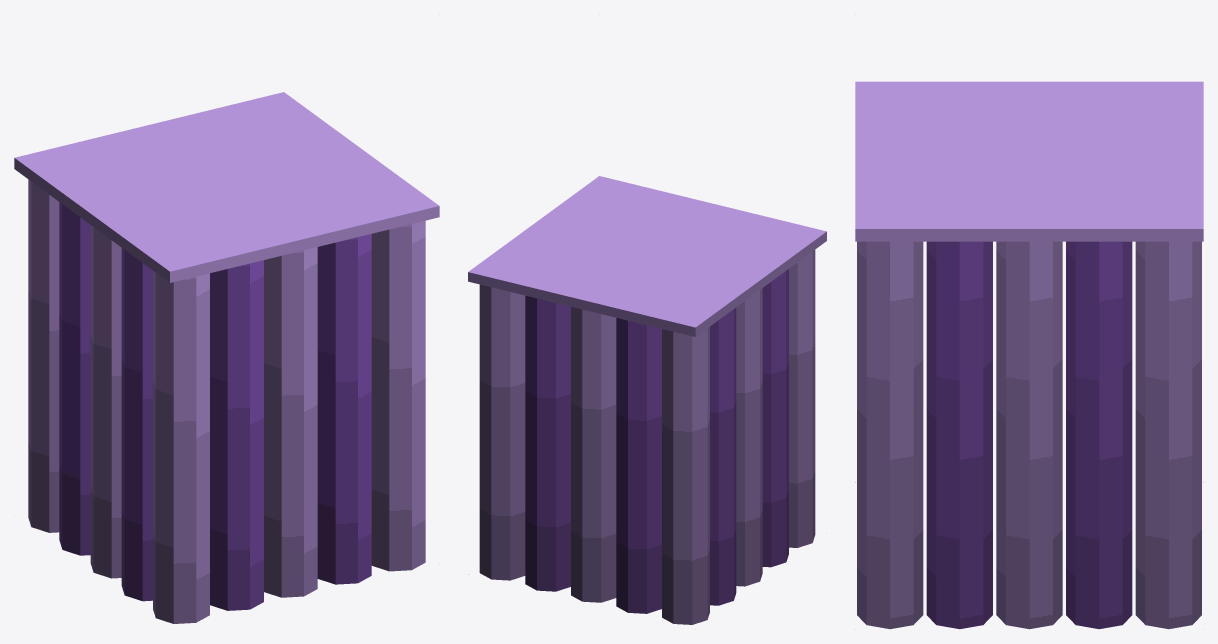
File: perimeter_wall_crystal_f15.glb
3 views of the same model, side by side, from view 1: azimuth 30°, elevation 25°; view 2: azimuth 150°, elevation 25°; view 3: azimuth 270°, elevation 25° (orthographic). The views are drawn at different scales.
Bounding box in the file's own units: 2 × 3.9 × 2.
Materials: 1 (1 with a texture image).
